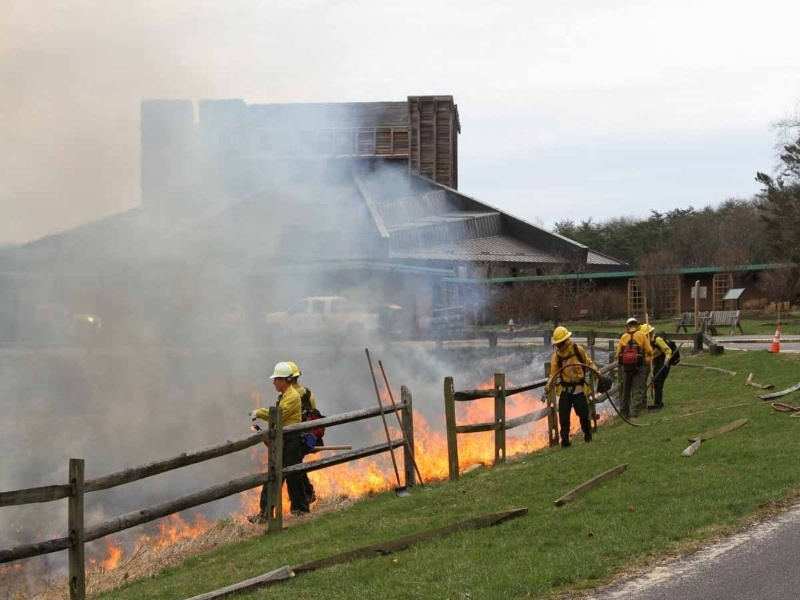smoke: (1, 131, 432, 454)
